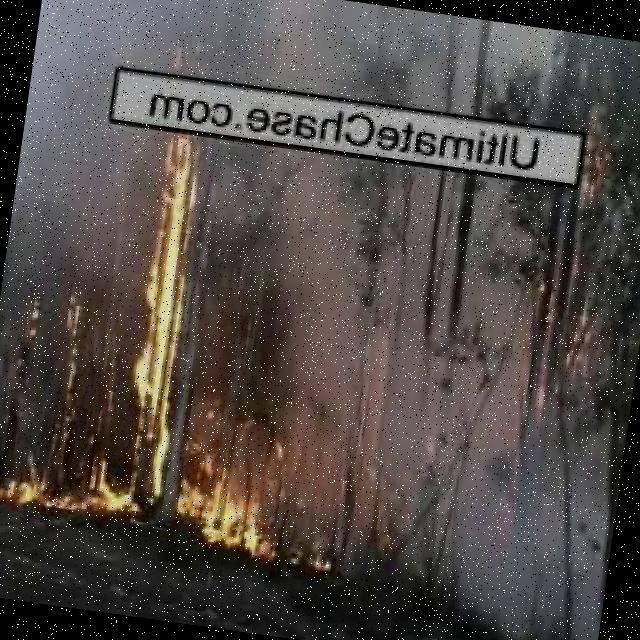Fire: (113, 112, 211, 521), (169, 423, 330, 566), (535, 282, 615, 413), (0, 444, 109, 519), (563, 105, 631, 221), (46, 293, 90, 418)
